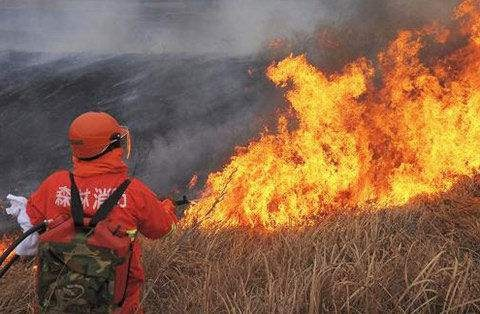fire: (180, 6, 479, 228)
